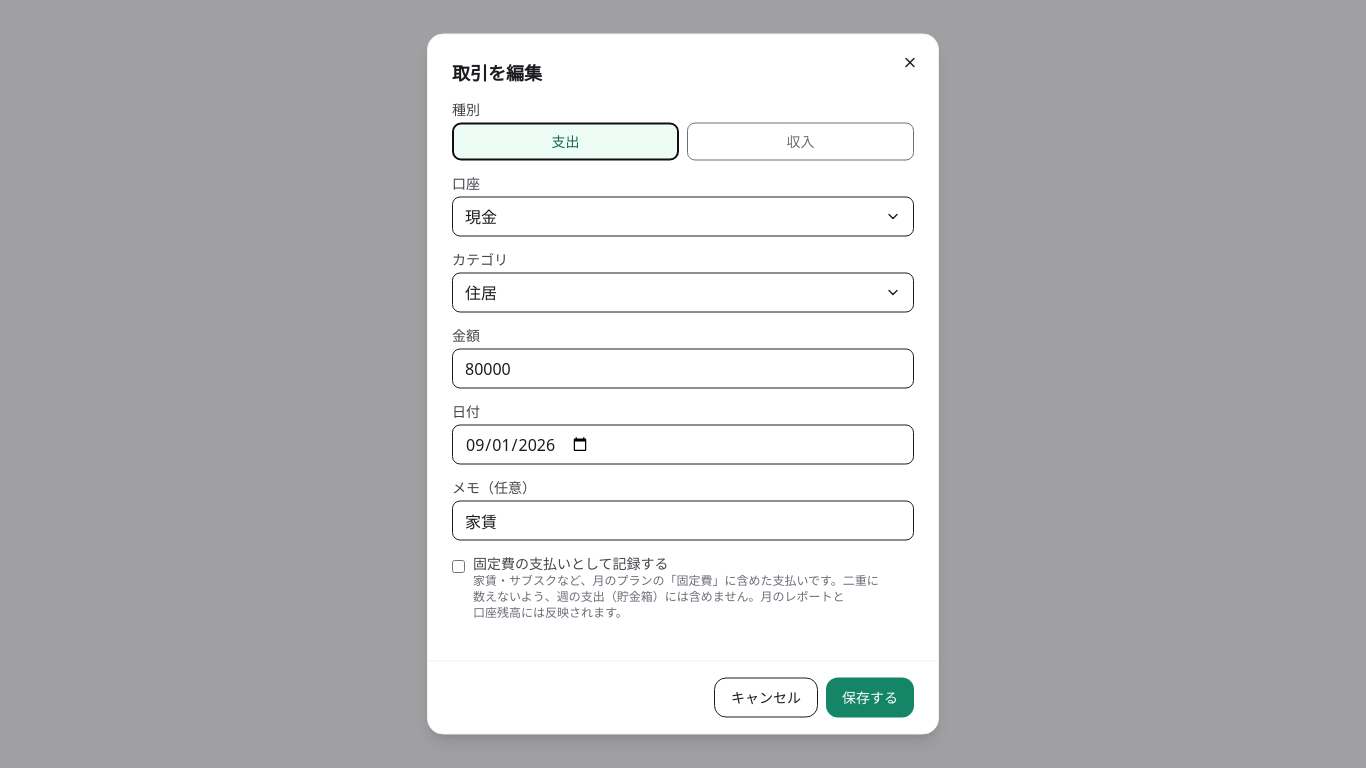
Test: TransactionFormDialog: 固定費の支払い › 収入では固定費の選択肢を出さない
Check: the checkbox labelled "固定費の支払いとして記録する" is shown, box [452,558,465,574]
Click the button "収入" at (800, 142), box [687,122,914,160]
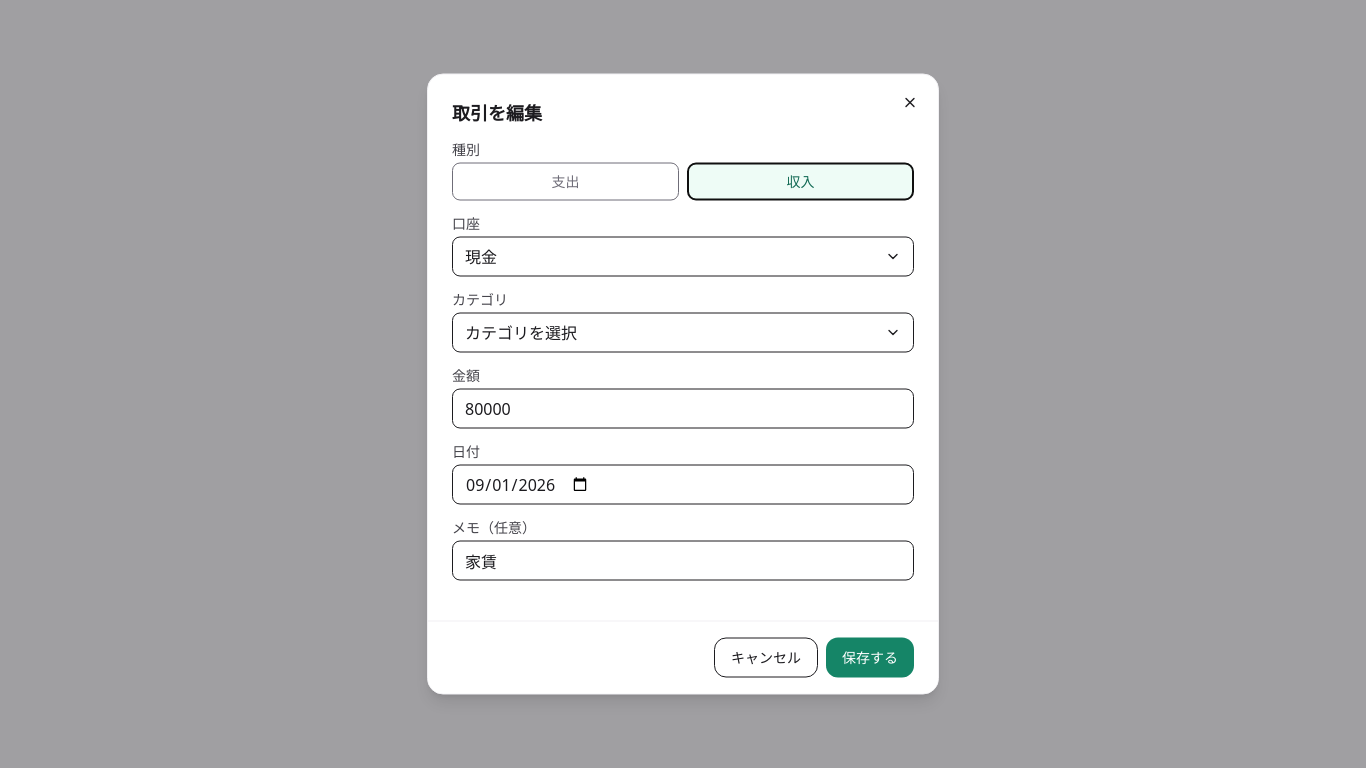
Check: the label labelled "固定費の支払いとして記録する" is gone
